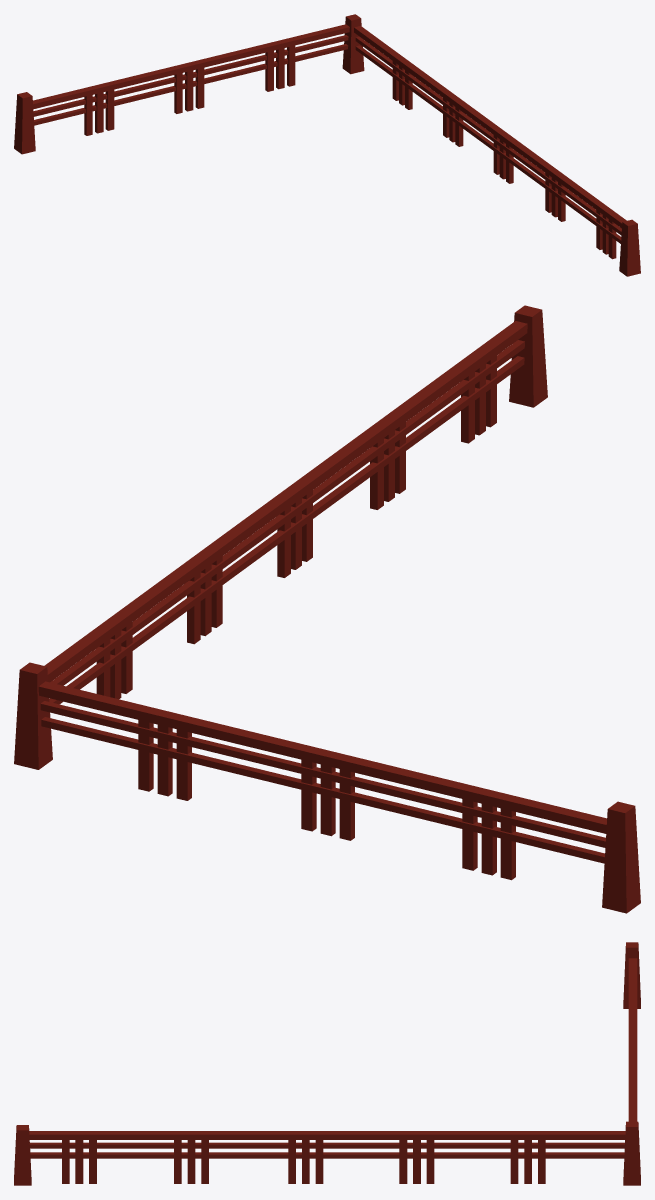
The model's file is fence7.fbx.
3 renders of one model, top to bottom at view 1: azimuth 30°, elevation 25°; view 2: azimuth 150°, elevation 25°; view 3: azimuth 270°, elevation 25°, orthographic. The views are drawn at different scales.
Parts seen in each view (by area): view 1: fence7; view 2: fence7; view 3: fence7.
Part boxes in pixels (x1=…): fence7: x1=14, y1=14, x2=640, y2=276; fence7: x1=14, y1=305, x2=640, y2=913; fence7: x1=14, y1=942, x2=640, y2=1185.
Bounding box in the file's own units: 696 × 106 × 1001.
